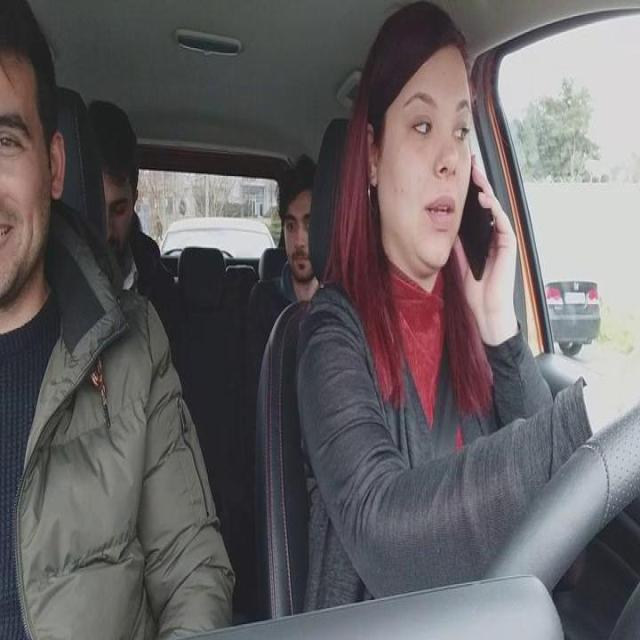phone: (456, 164, 496, 282)
